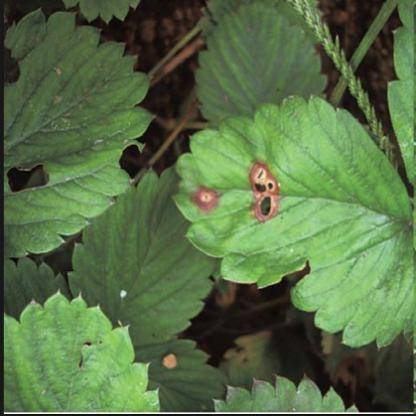Strawberry_Leaf_Spot: (168, 92, 415, 352)
